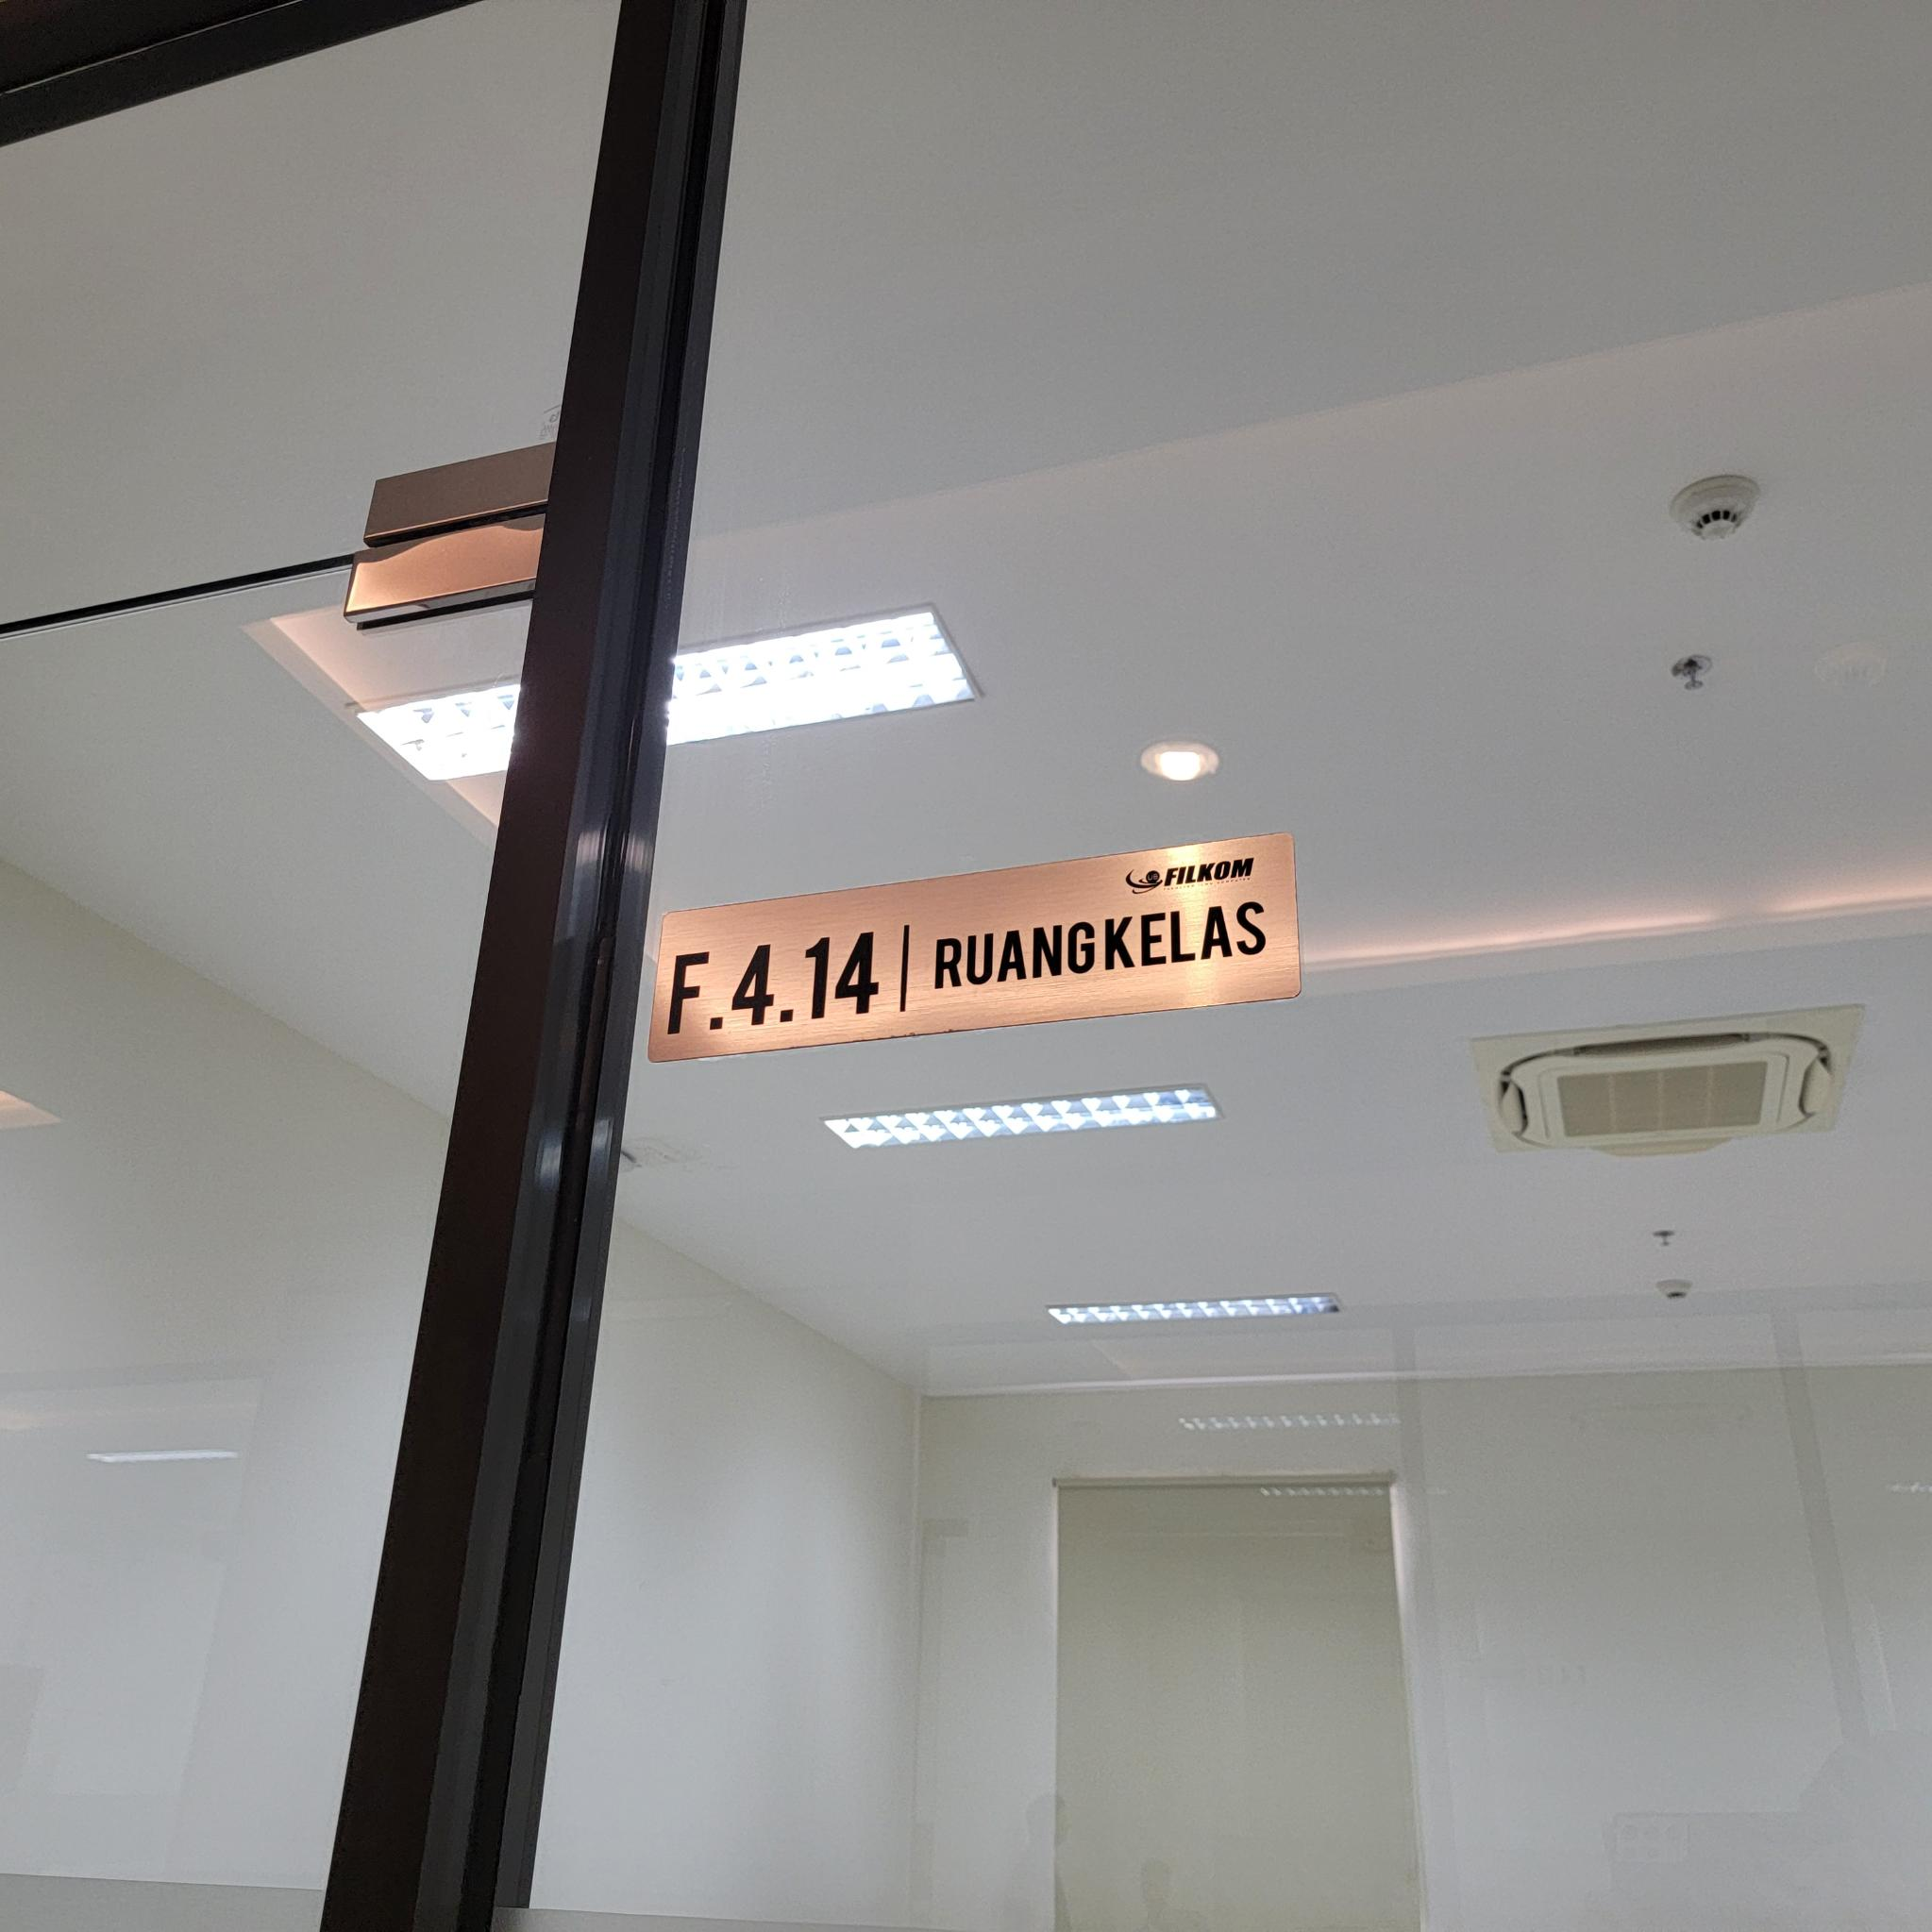plate: (646, 830, 1304, 1067)
